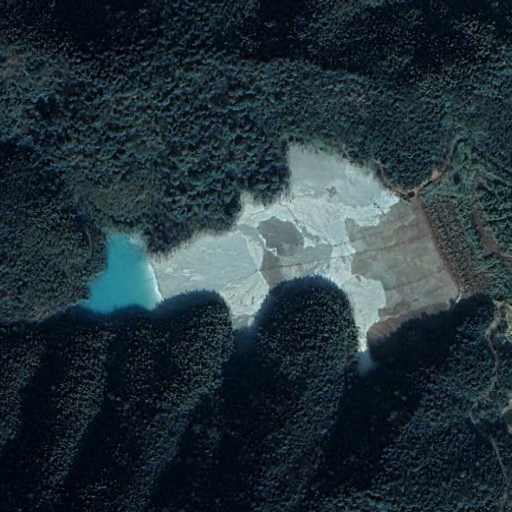tp: (76, 138, 463, 370)
